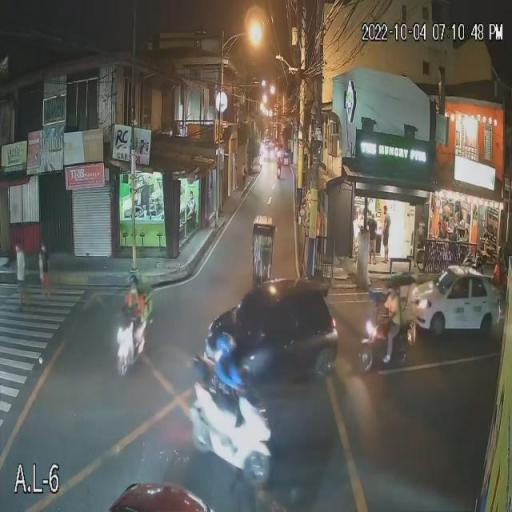helmet: (211, 330, 238, 361), (124, 268, 143, 295)
motorcycle: (187, 377, 277, 485), (112, 285, 159, 378)
rider: (210, 355, 248, 436), (119, 289, 145, 352)
